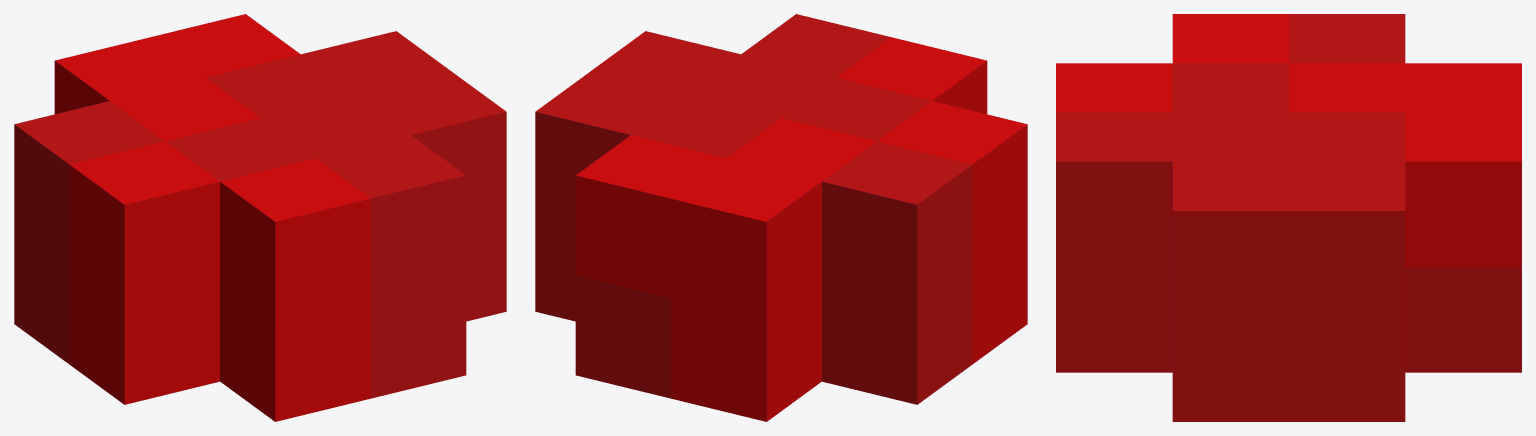
Rendered from Escenario 3 chocorramosurvivor-0-1.obj.
3 views of the same model, side by side, from view 1: azimuth 30°, elevation 25°; view 2: azimuth 150°, elevation 25°; view 3: azimuth 270°, elevation 25° (orthographic). The views are drawn at different scales.
Parts seen in each view (by area): view 1: Escenario_3_chocorramosurvivor-0-1; view 2: Escenario_3_chocorramosurvivor-0-1; view 3: Escenario_3_chocorramosurvivor-0-1.
Boxes of the visible parts, x1,y1,x2,y2 form: Escenario_3_chocorramosurvivor-0-1: (14,14,506,421); Escenario_3_chocorramosurvivor-0-1: (535,14,1027,421); Escenario_3_chocorramosurvivor-0-1: (1056,14,1521,421).
Bounding box in the file's own units: 0.4 × 0.2 × 0.4.
Materials: 1 (1 with a texture image).
